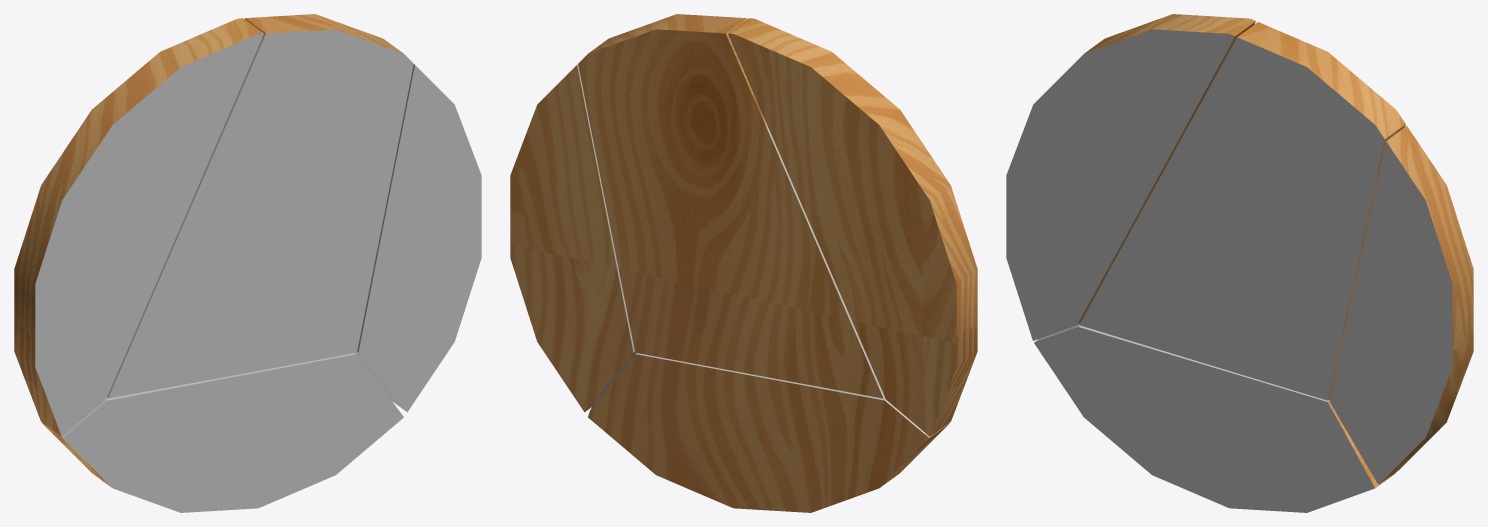
Rendered from BR_Clock_Drop.fbx.
The picture shows the model from 3 angles, left to right: view 1: azimuth 30°, elevation 25°; view 2: azimuth 150°, elevation 25°; view 3: azimuth 330°, elevation 25°; orthographic projection.
Parts seen in each view (by area): view 1: BR_Clock.001_cell, BR_Clock.001_cell.001, BR_Clock.001_cell.003, BR_Clock.001_cell.002; view 2: BR_Clock.001_cell, BR_Clock.001_cell.001, BR_Clock.001_cell.003, BR_Clock.001_cell.002; view 3: BR_Clock.001_cell, BR_Clock.001_cell.001, BR_Clock.001_cell.003, BR_Clock.001_cell.002.
Boxes of the visible parts, left/top/right/bottom form: BR_Clock.001_cell: left=107, top=14, right=413, bottom=398; BR_Clock.001_cell.001: left=14, top=18, right=263, bottom=436; BR_Clock.001_cell.003: left=42, top=353, right=403, bottom=512; BR_Clock.001_cell.002: left=355, top=64, right=481, bottom=412; BR_Clock.001_cell: left=578, top=14, right=884, bottom=398; BR_Clock.001_cell.001: left=728, top=18, right=977, bottom=436; BR_Clock.001_cell.003: left=588, top=353, right=949, bottom=512; BR_Clock.001_cell.002: left=510, top=64, right=636, bottom=412; BR_Clock.001_cell: left=1079, top=22, right=1405, bottom=400; BR_Clock.001_cell.001: left=1006, top=14, right=1255, bottom=340; BR_Clock.001_cell.003: left=1034, top=323, right=1395, bottom=512; BR_Clock.001_cell.002: left=1329, top=126, right=1473, bottom=484.
Bounding box in the file's own units: 52.12 × 52.92 × 4.23.
